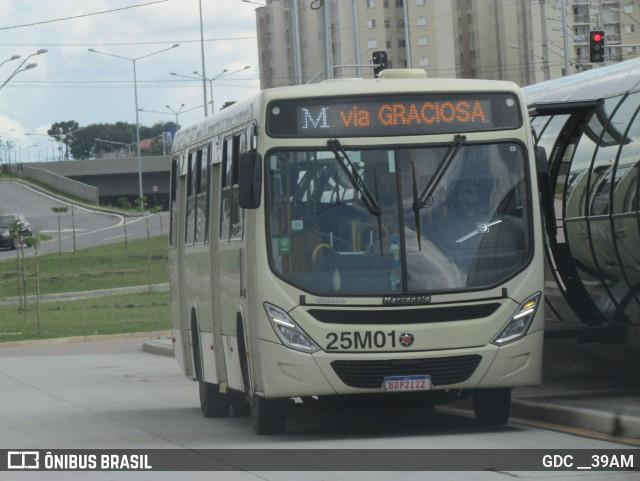GRACIOSA: (373, 99, 490, 129)
